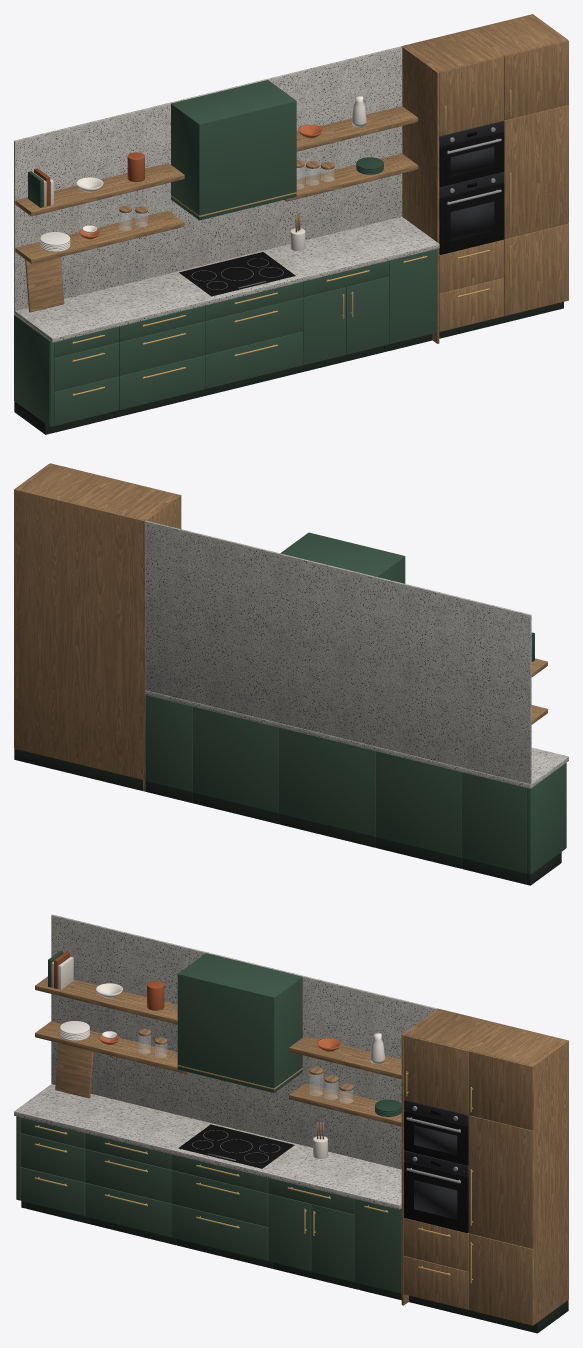
The model's file is kitchen-run.glb.
3 views of the same model, one above another, from view 1: azimuth 30°, elevation 25°; view 2: azimuth 150°, elevation 25°; view 3: azimuth 330°, elevation 25° (orthographic).
Parts seen in each view (by area): view 1: kitchen-run; view 2: kitchen-run; view 3: kitchen-run.
Part boxes in pixels (x1,y1,x2,y2): kitchen-run: (14, 14, 568, 434); kitchen-run: (14, 463, 568, 885); kitchen-run: (14, 914, 568, 1333).
Size of the model in its own units: 4.8 by 2.4 by 0.629.
Materials: 30 (3 with a texture image).
